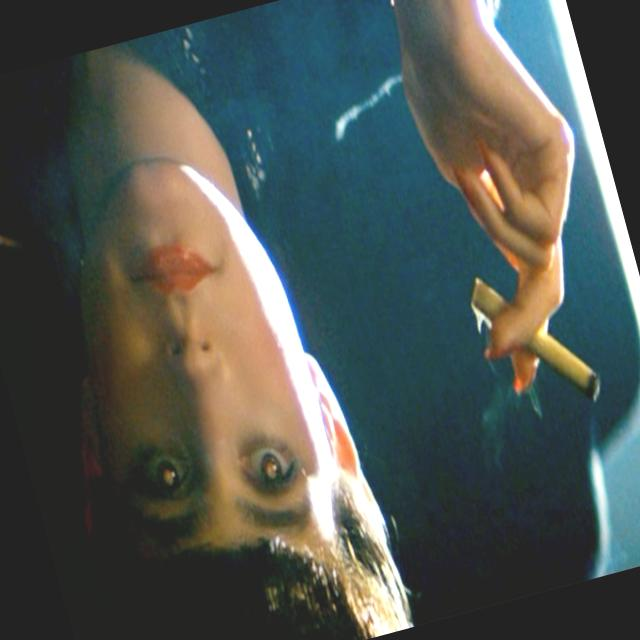smoke: (464, 251, 606, 428)
